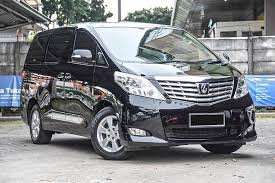mobil: (21, 21, 262, 158)
